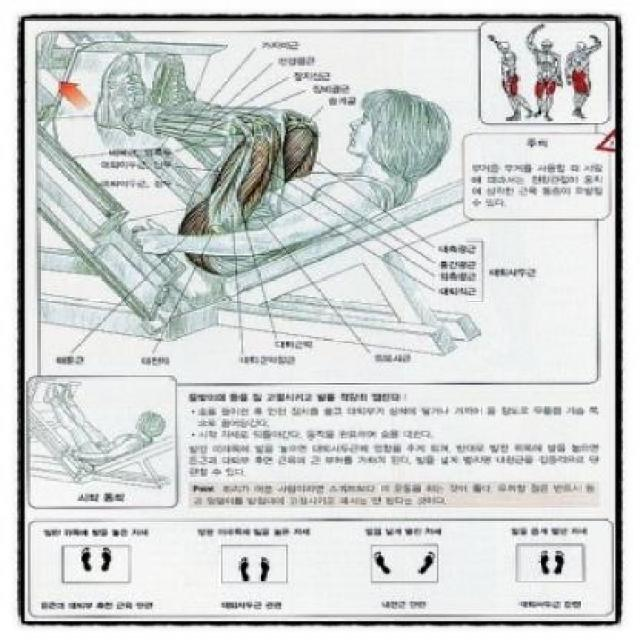leg press: (46, 32, 485, 368)
